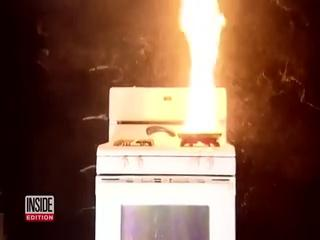Fire: (178, 87, 225, 159)
